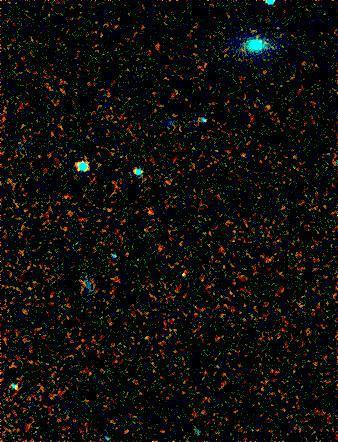star: (169, 261, 199, 291)
